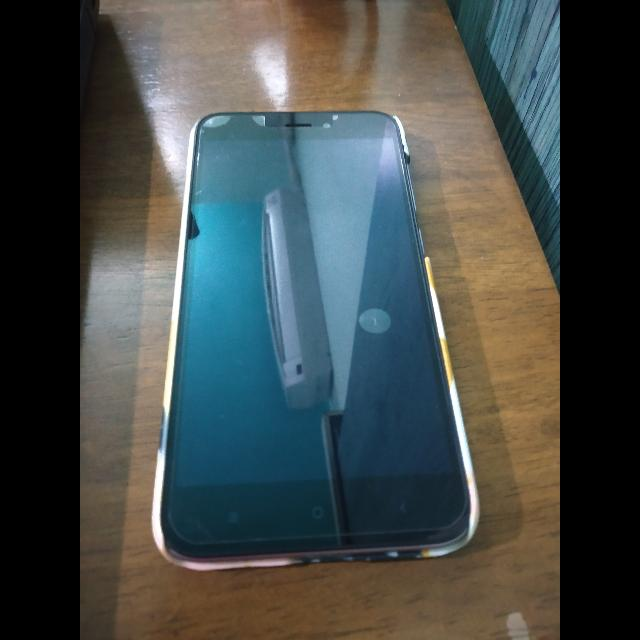Smartphone: (150, 90, 518, 554)
